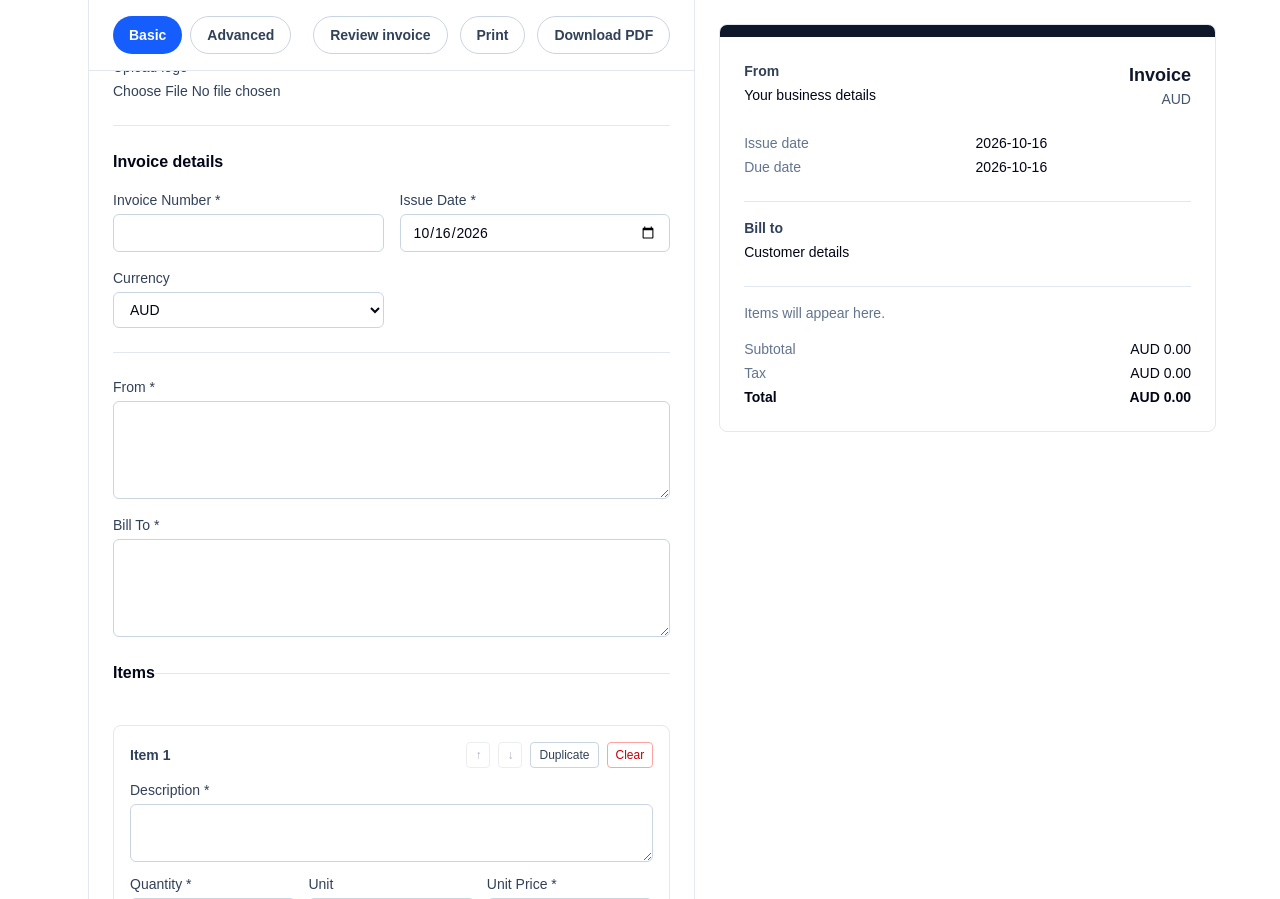
Test: CreateInvoiceEditor › shows a field-level error for a missing required field without clearing other entered values
(page scrolled)
Type "Acme Pty Ltd" into the text box labelled "From". click: [392, 450]
box: [113,401,670,499]
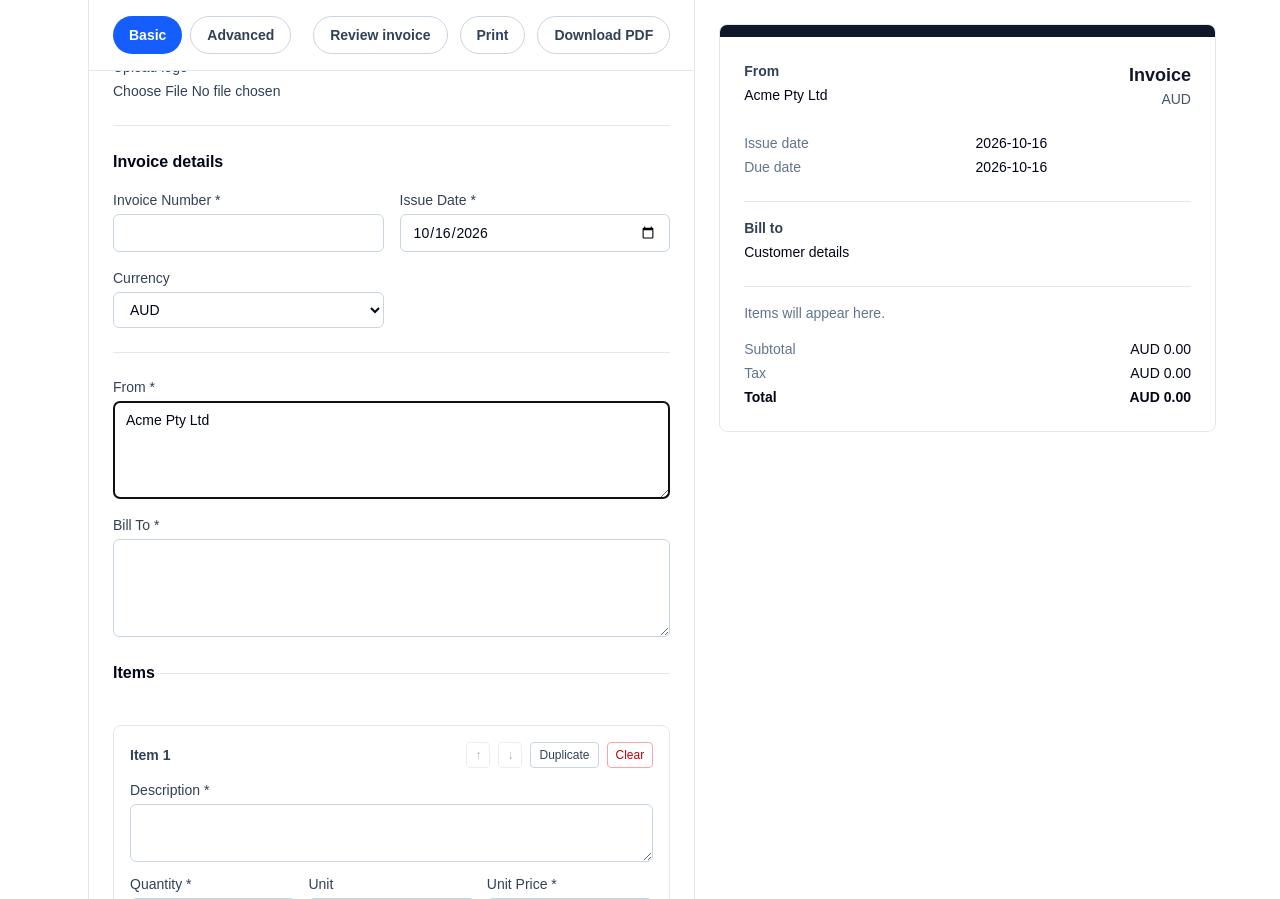
// Invoice Number is required and left empty - blur it directly.
Click the field labelled "Invoice Number *". click: [248, 233]
box: [113,214,384,252]
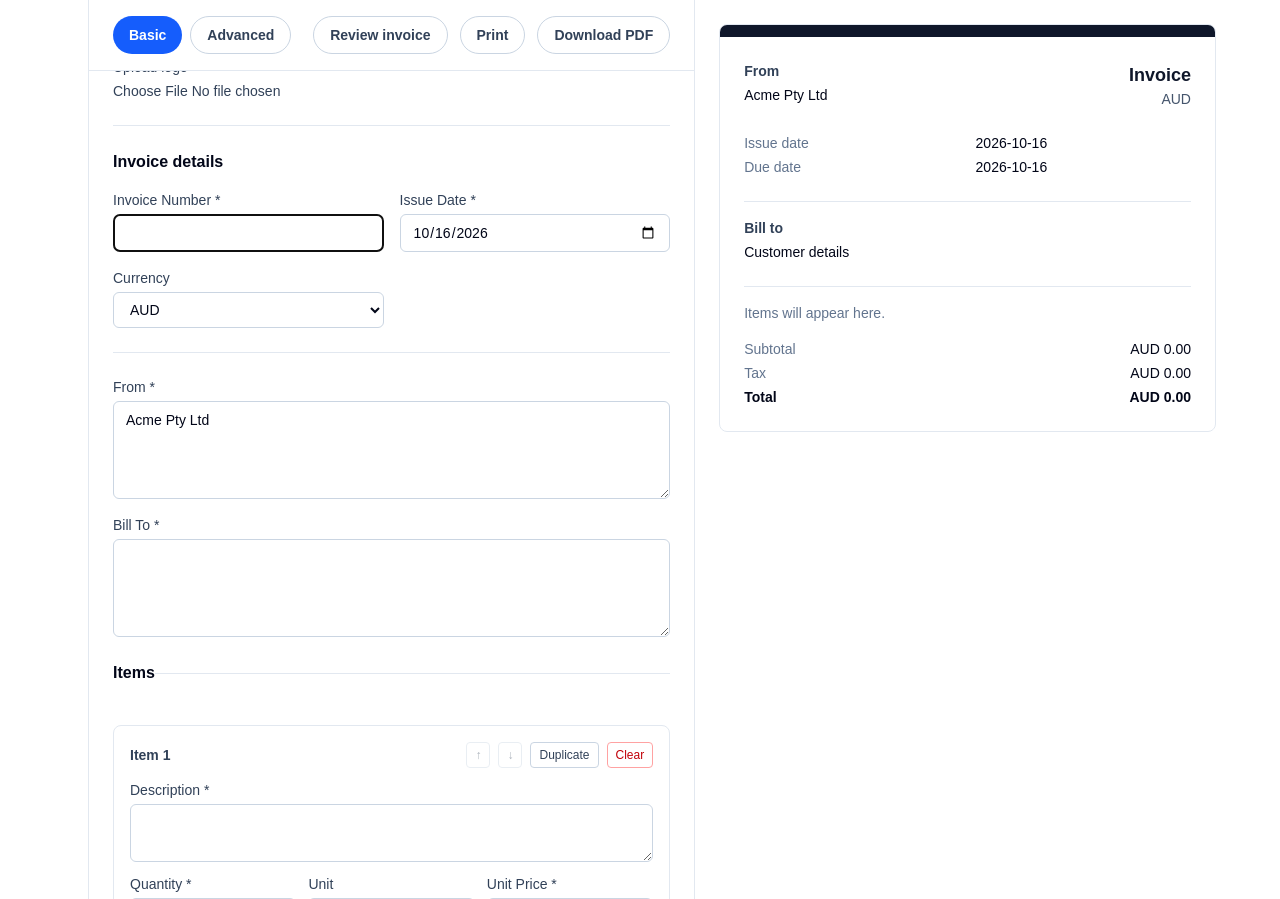
Press Tab
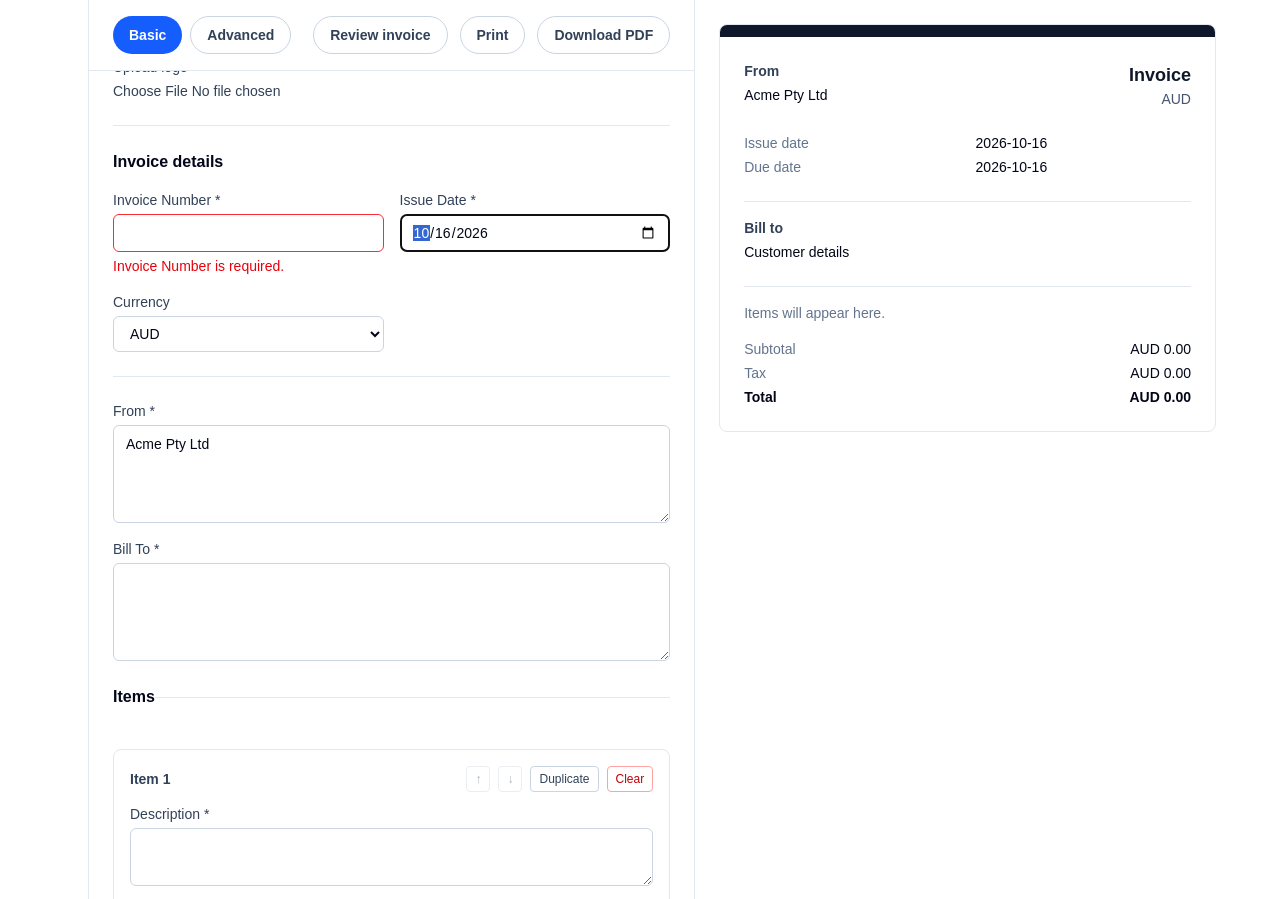
Expected: the text "Invoice Number is required." is shown, [113,258,284,274]
